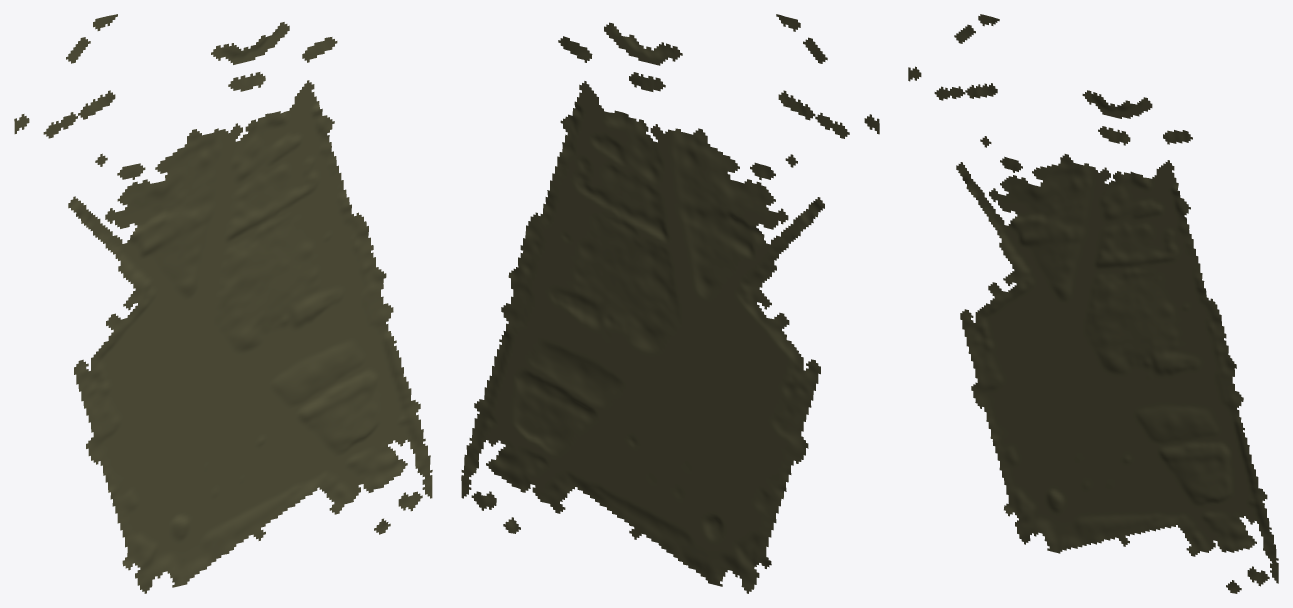
The model's file is ground.obj.
3 renders of one model, left to right at view 1: azimuth 30°, elevation 25°; view 2: azimuth 150°, elevation 25°; view 3: azimuth 330°, elevation 25°, orthographic. The views are drawn at different scales.
Visible parts, largest first — view 1: Yard_ground; view 2: Yard_ground; view 3: Yard_ground.
Boxes of the visible parts, box(x1,y1,x2,y2) form: Yard_ground: box(14, 14, 432, 593); Yard_ground: box(461, 14, 879, 593); Yard_ground: box(908, 14, 1278, 593).
Size of the model in its own units: 85 by 114 by 0.385.
